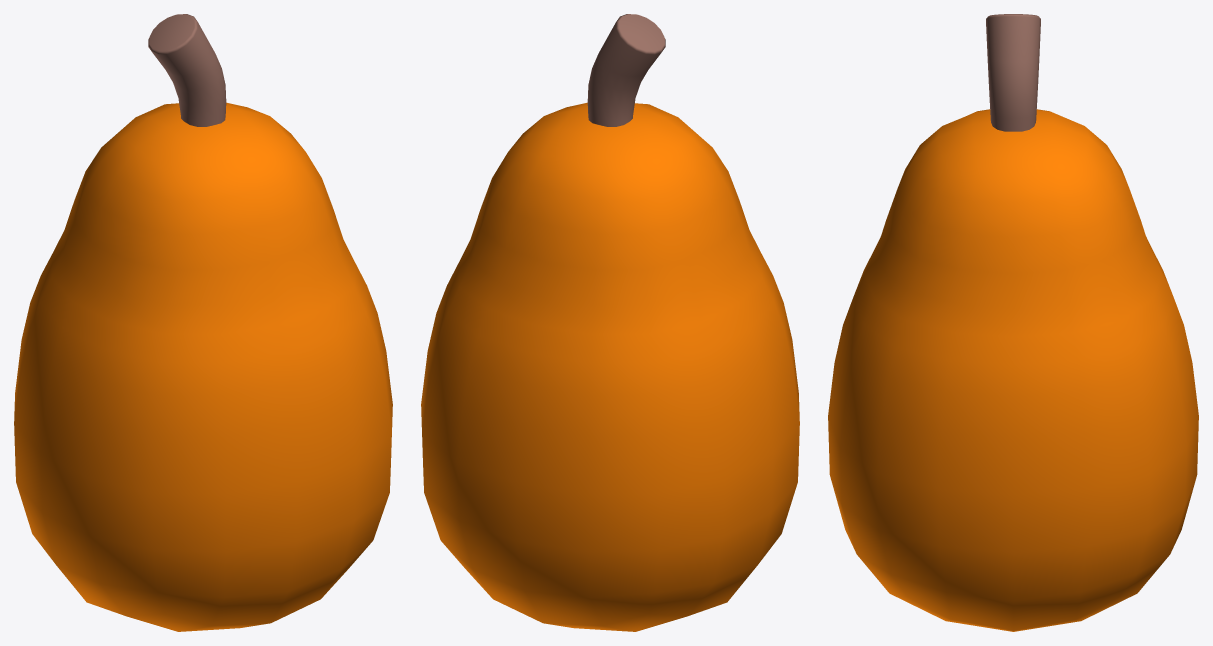
The model's file is Store_19_Pear_1.glb.
3 renders of one model, left to right at view 1: azimuth 30°, elevation 25°; view 2: azimuth 150°, elevation 25°; view 3: azimuth 270°, elevation 25°, orthographic.
Visible parts, largest first — view 1: Store_19_Pear_1; view 2: Store_19_Pear_1; view 3: Store_19_Pear_1.
Boxes of the visible parts, x1,y1,x2,y2 form: Store_19_Pear_1: (14,14,392,631); Store_19_Pear_1: (421,14,799,631); Store_19_Pear_1: (828,14,1198,631).
Size of the model in its own units: 0.2524 by 0.4431 by 0.2524.
1 material, 1 textured.
